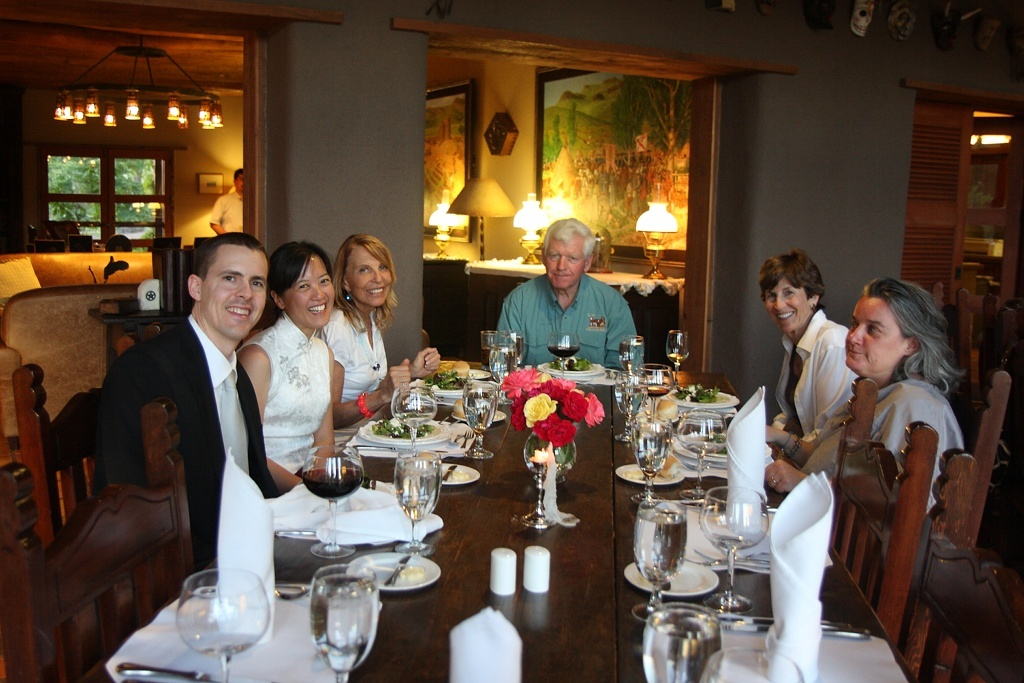Table: (80, 342, 887, 676)
